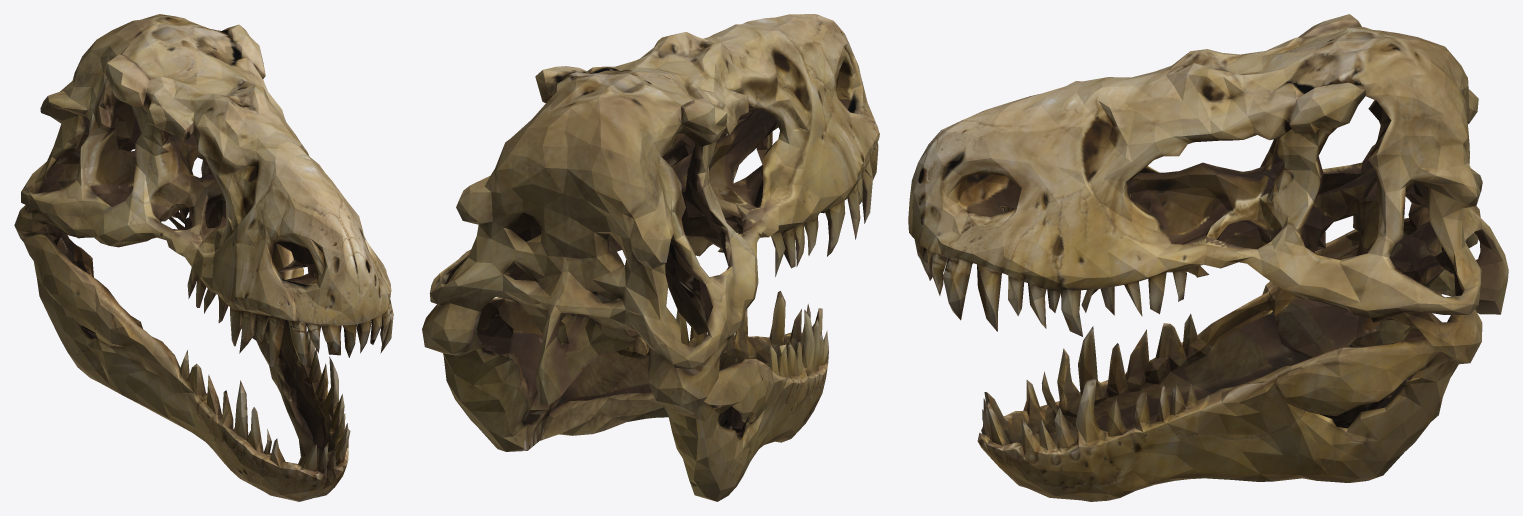
The model's file is T_Rex_Skull_0422163617_texture.fbx.
3 views of the same model, side by side, from view 1: azimuth 30°, elevation 25°; view 2: azimuth 150°, elevation 25°; view 3: azimuth 270°, elevation 25° (orthographic). The views are drawn at different scales.
Visible parts, largest first — view 1: temp; view 2: temp; view 3: temp.
Boxes of the visible parts, x1=… form: temp: x1=14, y1=14, x2=393, y2=501; temp: x1=422, y1=14, x2=879, y2=501; temp: x1=908, y1=14, x2=1508, y2=501.
Size of the model in its own units: 109 by 166 by 200.
Materials: 1 (1 with a texture image).
